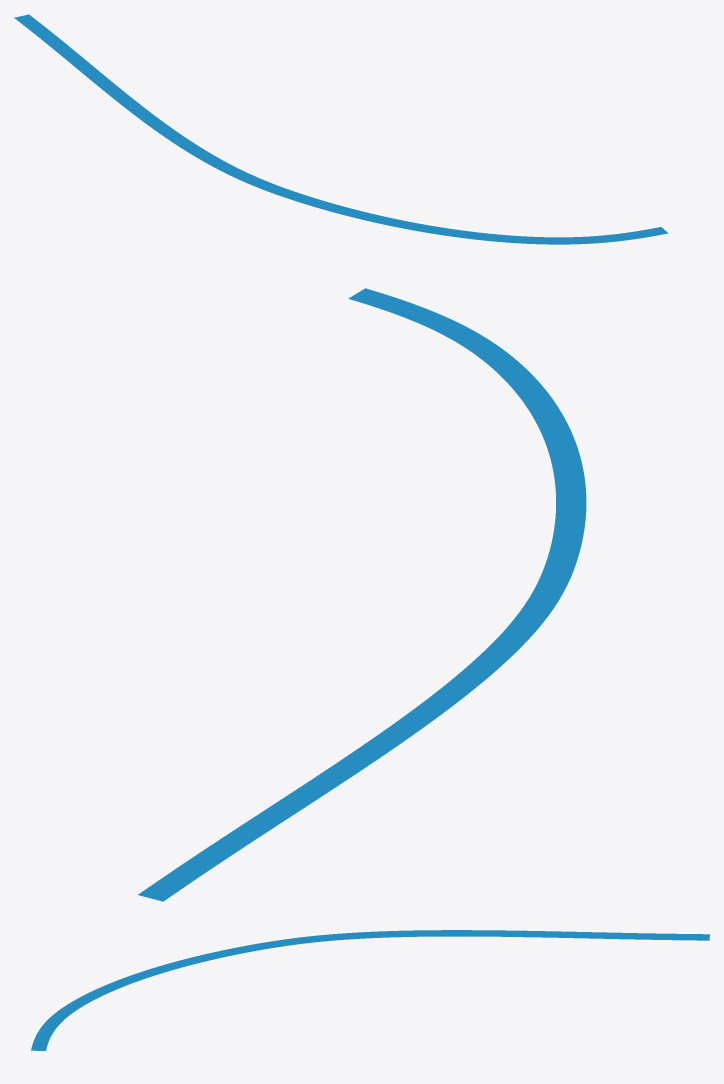
Rendered from guide.glb.
The picture shows the model from 3 angles, top to bottom: view 1: azimuth 30°, elevation 25°; view 2: azimuth 150°, elevation 25°; view 3: azimuth 270°, elevation 25°; orthographic projection. The views are drawn at different scales.
Visible parts, largest first — view 1: static; view 2: static; view 3: static.
Boxes of the visible parts, <box> form: static: <box>14,14,667,244</box>; static: <box>138,288,586,901</box>; static: <box>31,930,709,1050</box>.
Bounding box in the file's own units: 6.99 × 0 × 14.72.
